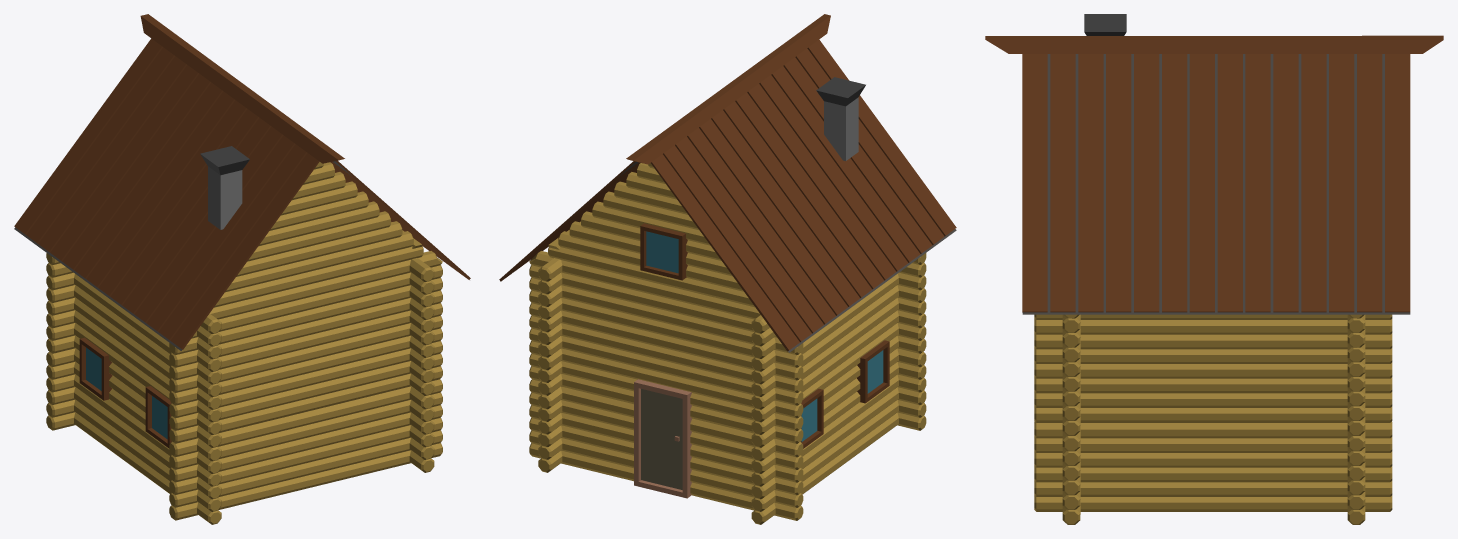
The model's file is House(2).fbx.
3 renders of one model, left to right at view 1: azimuth 30°, elevation 25°; view 2: azimuth 150°, elevation 25°; view 3: azimuth 270°, elevation 25°, orthographic. The views are drawn at different scales.
Visible parts, largest first — view 1: Plane.036; view 2: Plane.036; view 3: Plane.036.
Part boxes in pixels (left/top/right/bottom): Plane.036: left=14, top=14, right=470, bottom=524; Plane.036: left=499, top=14, right=956, bottom=524; Plane.036: left=985, top=14, right=1443, bottom=524.
Size of the model in its own units: 635 by 745 by 751.
